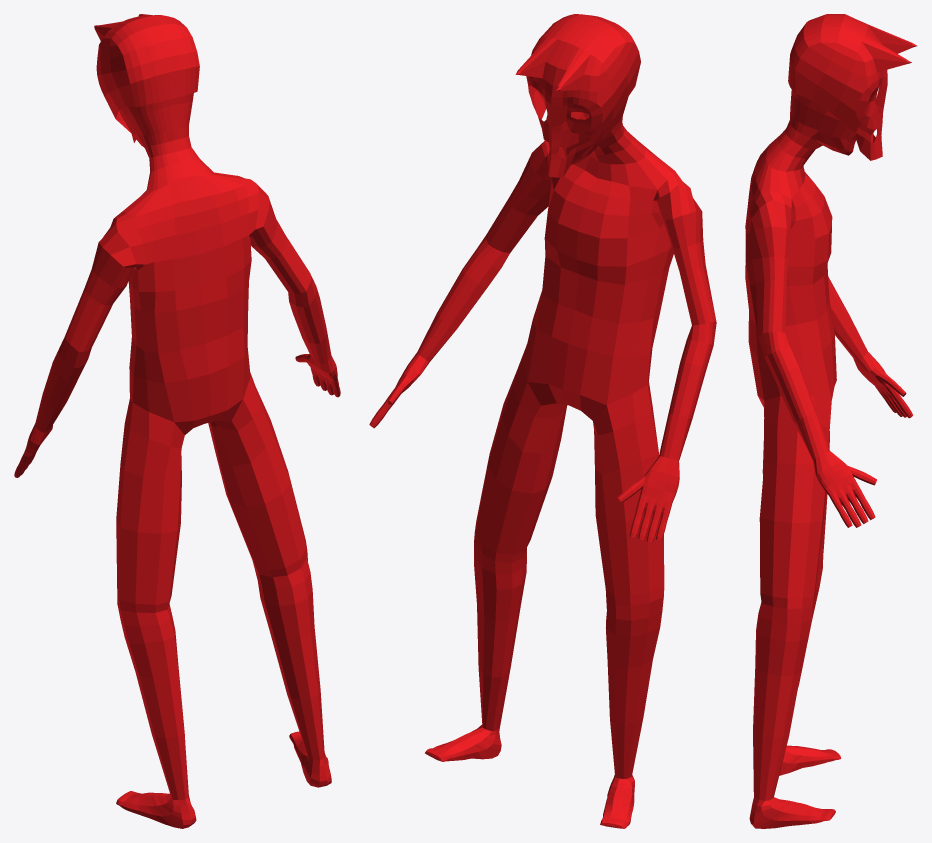
The model's file is reposoE_000288.obj.
3 views of the same model, side by side, from view 1: azimuth 30°, elevation 25°; view 2: azimuth 150°, elevation 25°; view 3: azimuth 270°, elevation 25° (orthographic). The views are drawn at different scales.
Visible parts, largest first — view 1: Plane.002_Plane.001; view 2: Plane.002_Plane.001; view 3: Plane.002_Plane.001.
Part boxes in pixels (left/top/right/bottom): Plane.002_Plane.001: left=14, top=14, right=340, bottom=828; Plane.002_Plane.001: left=369, top=14, right=716, bottom=828; Plane.002_Plane.001: left=745, top=14, right=916, bottom=828.
Size of the model in its own units: 2.92 by 7.17 by 1.48.
